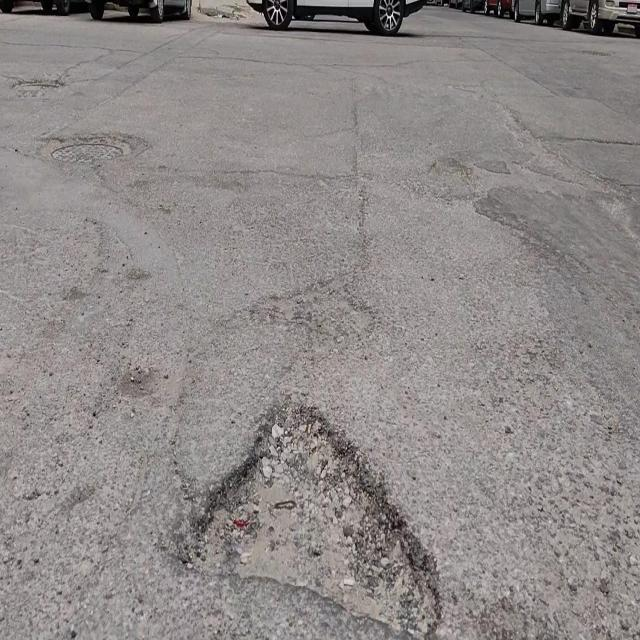Pothole: (175, 400, 443, 640)
